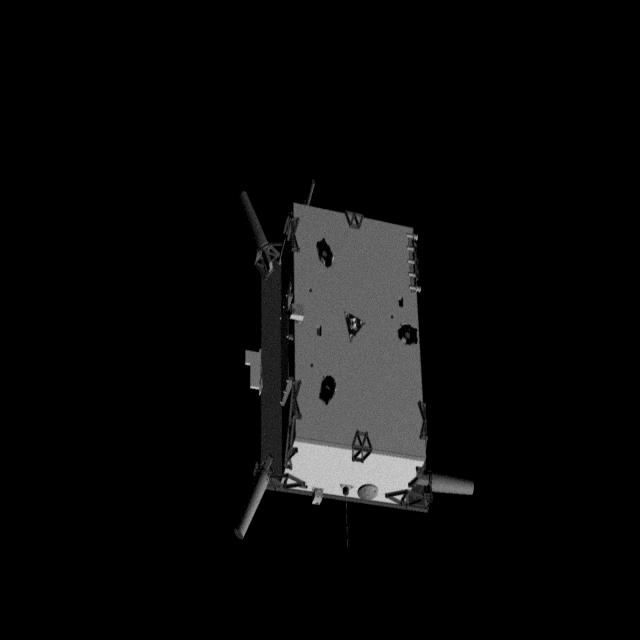medium_debris: (222, 176, 476, 574)
